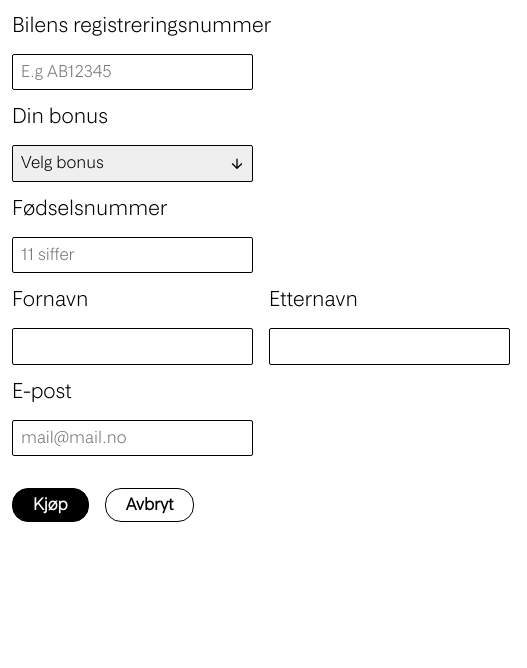
Test case: BilforsikringSkjema › should show default validation error after clicking 'kjøp'
Click the button "Kjøp" at [50, 505], box left=12, top=488, right=89, bottom=522
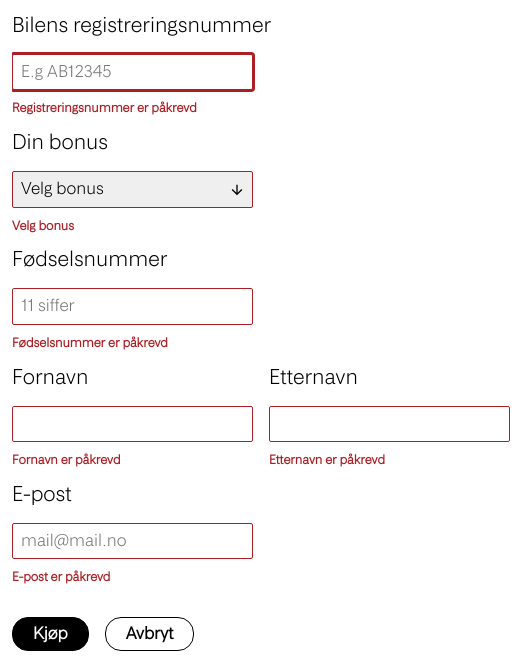
Expected: the text "Registreringsnummer er påkrevd" is shown, left=12, top=100, right=197, bottom=117
